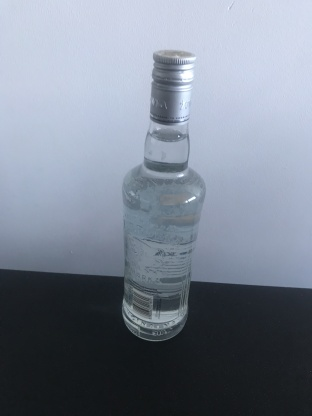nakretka: (148, 47, 197, 127)
